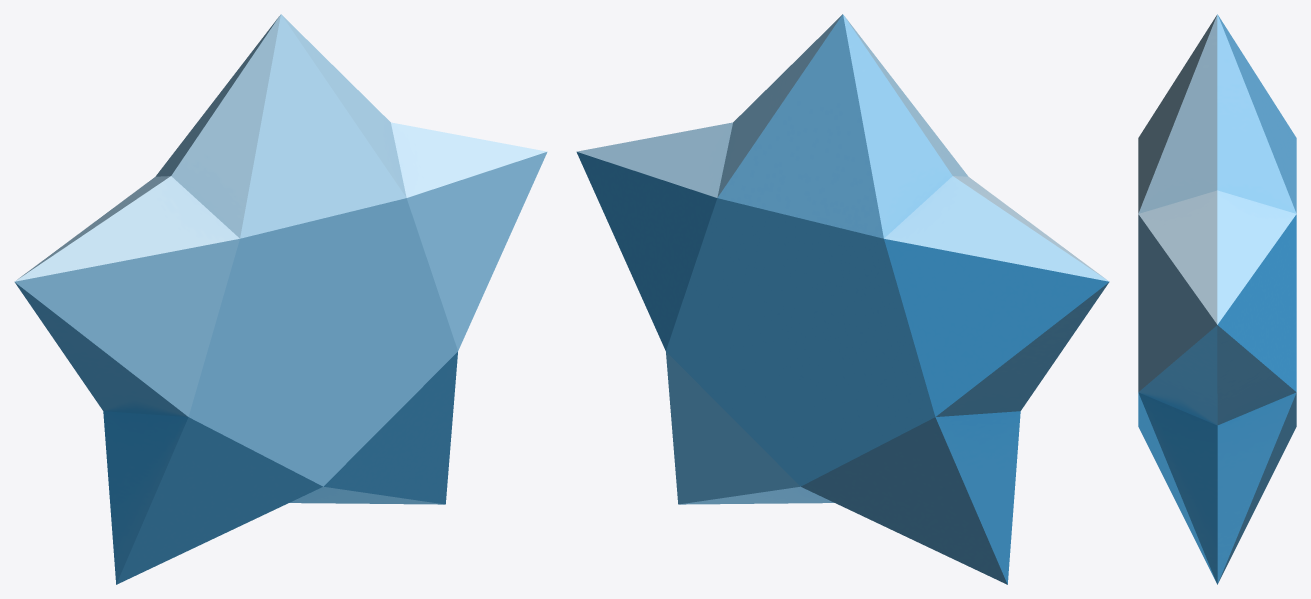
File: star.fbx
3 renders of one model, left to right at view 1: azimuth 30°, elevation 25°; view 2: azimuth 150°, elevation 25°; view 3: azimuth 270°, elevation 25°, orthographic. The views are drawn at different scales.
Parts seen in each view (by area): view 1: star; view 2: star; view 3: star.
Boxes of the visible parts, left/top/right/bottom form: star: left=14, top=14, right=547, bottom=584; star: left=576, top=14, right=1109, bottom=584; star: left=1138, top=14, right=1296, bottom=584.
Size of the model in its own units: 190 by 181 by 52.38.
Materials: 1 (1 with a texture image).
